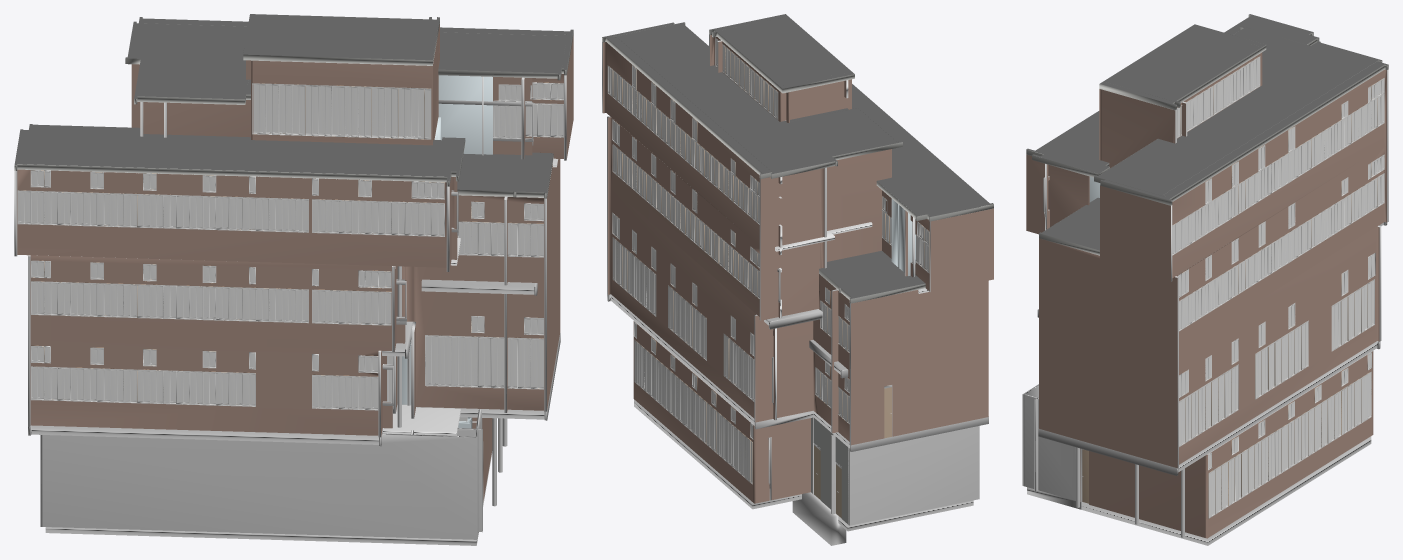
File: KresgeCenter.glb
3 views of the same model, side by side, from view 1: azimuth 30°, elevation 25°; view 2: azimuth 150°, elevation 25°; view 3: azimuth 270°, elevation 25° (orthographic). The views are drawn at different scales.
Parts seen in each view (by area): view 1: grp_2_ExteriorShell_none, grp_8_ExteriorShell_none, grp_0_ExteriorShell_none, grp_10_ExteriorShell_none, grp_73_Roofs_Upper Roof, grp_69_Roofs_Roof Over Lobby, grp_42_Floors_L1, grp_9_ExteriorShell_none, grp_78_Rooms_Upper L3, grp_43_Floors_Basement, grp_44_Floors_L1, grp_72_Roofs_Upper Roof (+10 smaller); view 2: grp_2_ExteriorShell_none, grp_8_ExteriorShell_none, grp_73_Roofs_Upper Roof, grp_0_ExteriorShell_none, grp_10_ExteriorShell_none, grp_69_Roofs_Roof Over Lobby, grp_6_ExteriorShell_none, grp_42_Floors_L1, grp_9_ExteriorShell_none, grp_43_Floors_Basement, grp_1_ExteriorShell_none, grp_41_Floors_Basement (+10 smaller); view 3: grp_2_ExteriorShell_none, grp_8_ExteriorShell_none, grp_73_Roofs_Upper Roof, grp_10_ExteriorShell_none, grp_69_Roofs_Roof Over Lobby, grp_0_ExteriorShell_none, grp_6_ExteriorShell_none, grp_9_ExteriorShell_none, grp_42_Floors_L1, grp_43_Floors_Basement, grp_185_StructuralColumns_Basement, grp_67_Roofs_Lower Roof (+1 smaller).
Boxes of the visible parts, <box> form: grp_2_ExteriorShell_none: <box>17,24,573,501</box>; grp_8_ExteriorShell_none: <box>17,82,563,410</box>; grp_0_ExteriorShell_none: <box>14,60,566,539</box>; grp_10_ExteriorShell_none: <box>14,17,573,193</box>; grp_73_Roofs_Upper Roof: <box>125,21,567,99</box>; grp_69_Roofs_Roof Over Lobby: <box>243,14,431,59</box>; grp_42_Floors_L1: <box>28,333,560,446</box>; grp_9_ExteriorShell_none: <box>14,18,573,198</box>; grp_78_Rooms_Upper L3: <box>438,75,492,154</box>; grp_43_Floors_Basement: <box>45,451,492,545</box>; grp_44_Floors_L1: <box>383,405,460,435</box>; grp_72_Roofs_Upper Roof: <box>125,22,566,104</box>; grp_2_ExteriorShell_none: <box>603,35,993,503</box>; grp_8_ExteriorShell_none: <box>607,38,929,484</box>; grp_73_Roofs_Upper Roof: <box>613,22,902,174</box>; grp_0_ExteriorShell_none: <box>602,38,979,525</box>; grp_10_ExteriorShell_none: <box>602,14,993,298</box>; grp_69_Roofs_Roof Over Lobby: <box>712,16,854,88</box>; grp_6_ExteriorShell_none: <box>609,45,929,484</box>; grp_42_Floors_L1: <box>607,294,988,451</box>; grp_9_ExteriorShell_none: <box>602,23,993,303</box>; grp_43_Floors_Basement: <box>634,399,973,531</box>; grp_1_ExteriorShell_none: <box>811,417,849,525</box>; grp_41_Floors_Basement: <box>792,492,846,545</box>; grp_2_ExteriorShell_none: <box>1026,52,1386,538</box>; grp_8_ExteriorShell_none: <box>1172,56,1384,518</box>; grp_73_Roofs_Upper Roof: <box>1094,26,1381,196</box>; grp_10_ExteriorShell_none: <box>1026,14,1387,250</box>; grp_69_Roofs_Roof Over Lobby: <box>1104,24,1265,102</box>; grp_0_ExteriorShell_none: <box>1022,69,1388,501</box>; grp_6_ExteriorShell_none: <box>1082,56,1381,518</box>; grp_9_ExteriorShell_none: <box>1026,15,1388,255</box>; grp_42_Floors_L1: <box>1038,341,1380,475</box>; grp_43_Floors_Basement: <box>1027,436,1371,545</box>; grp_185_StructuralColumns_Basement: <box>1076,447,1184,537</box>; grp_67_Roofs_Lower Roof: <box>1032,34,1318,173</box>.
Size of the model in its own units: 63.27 by 56.65 by 43.52.
